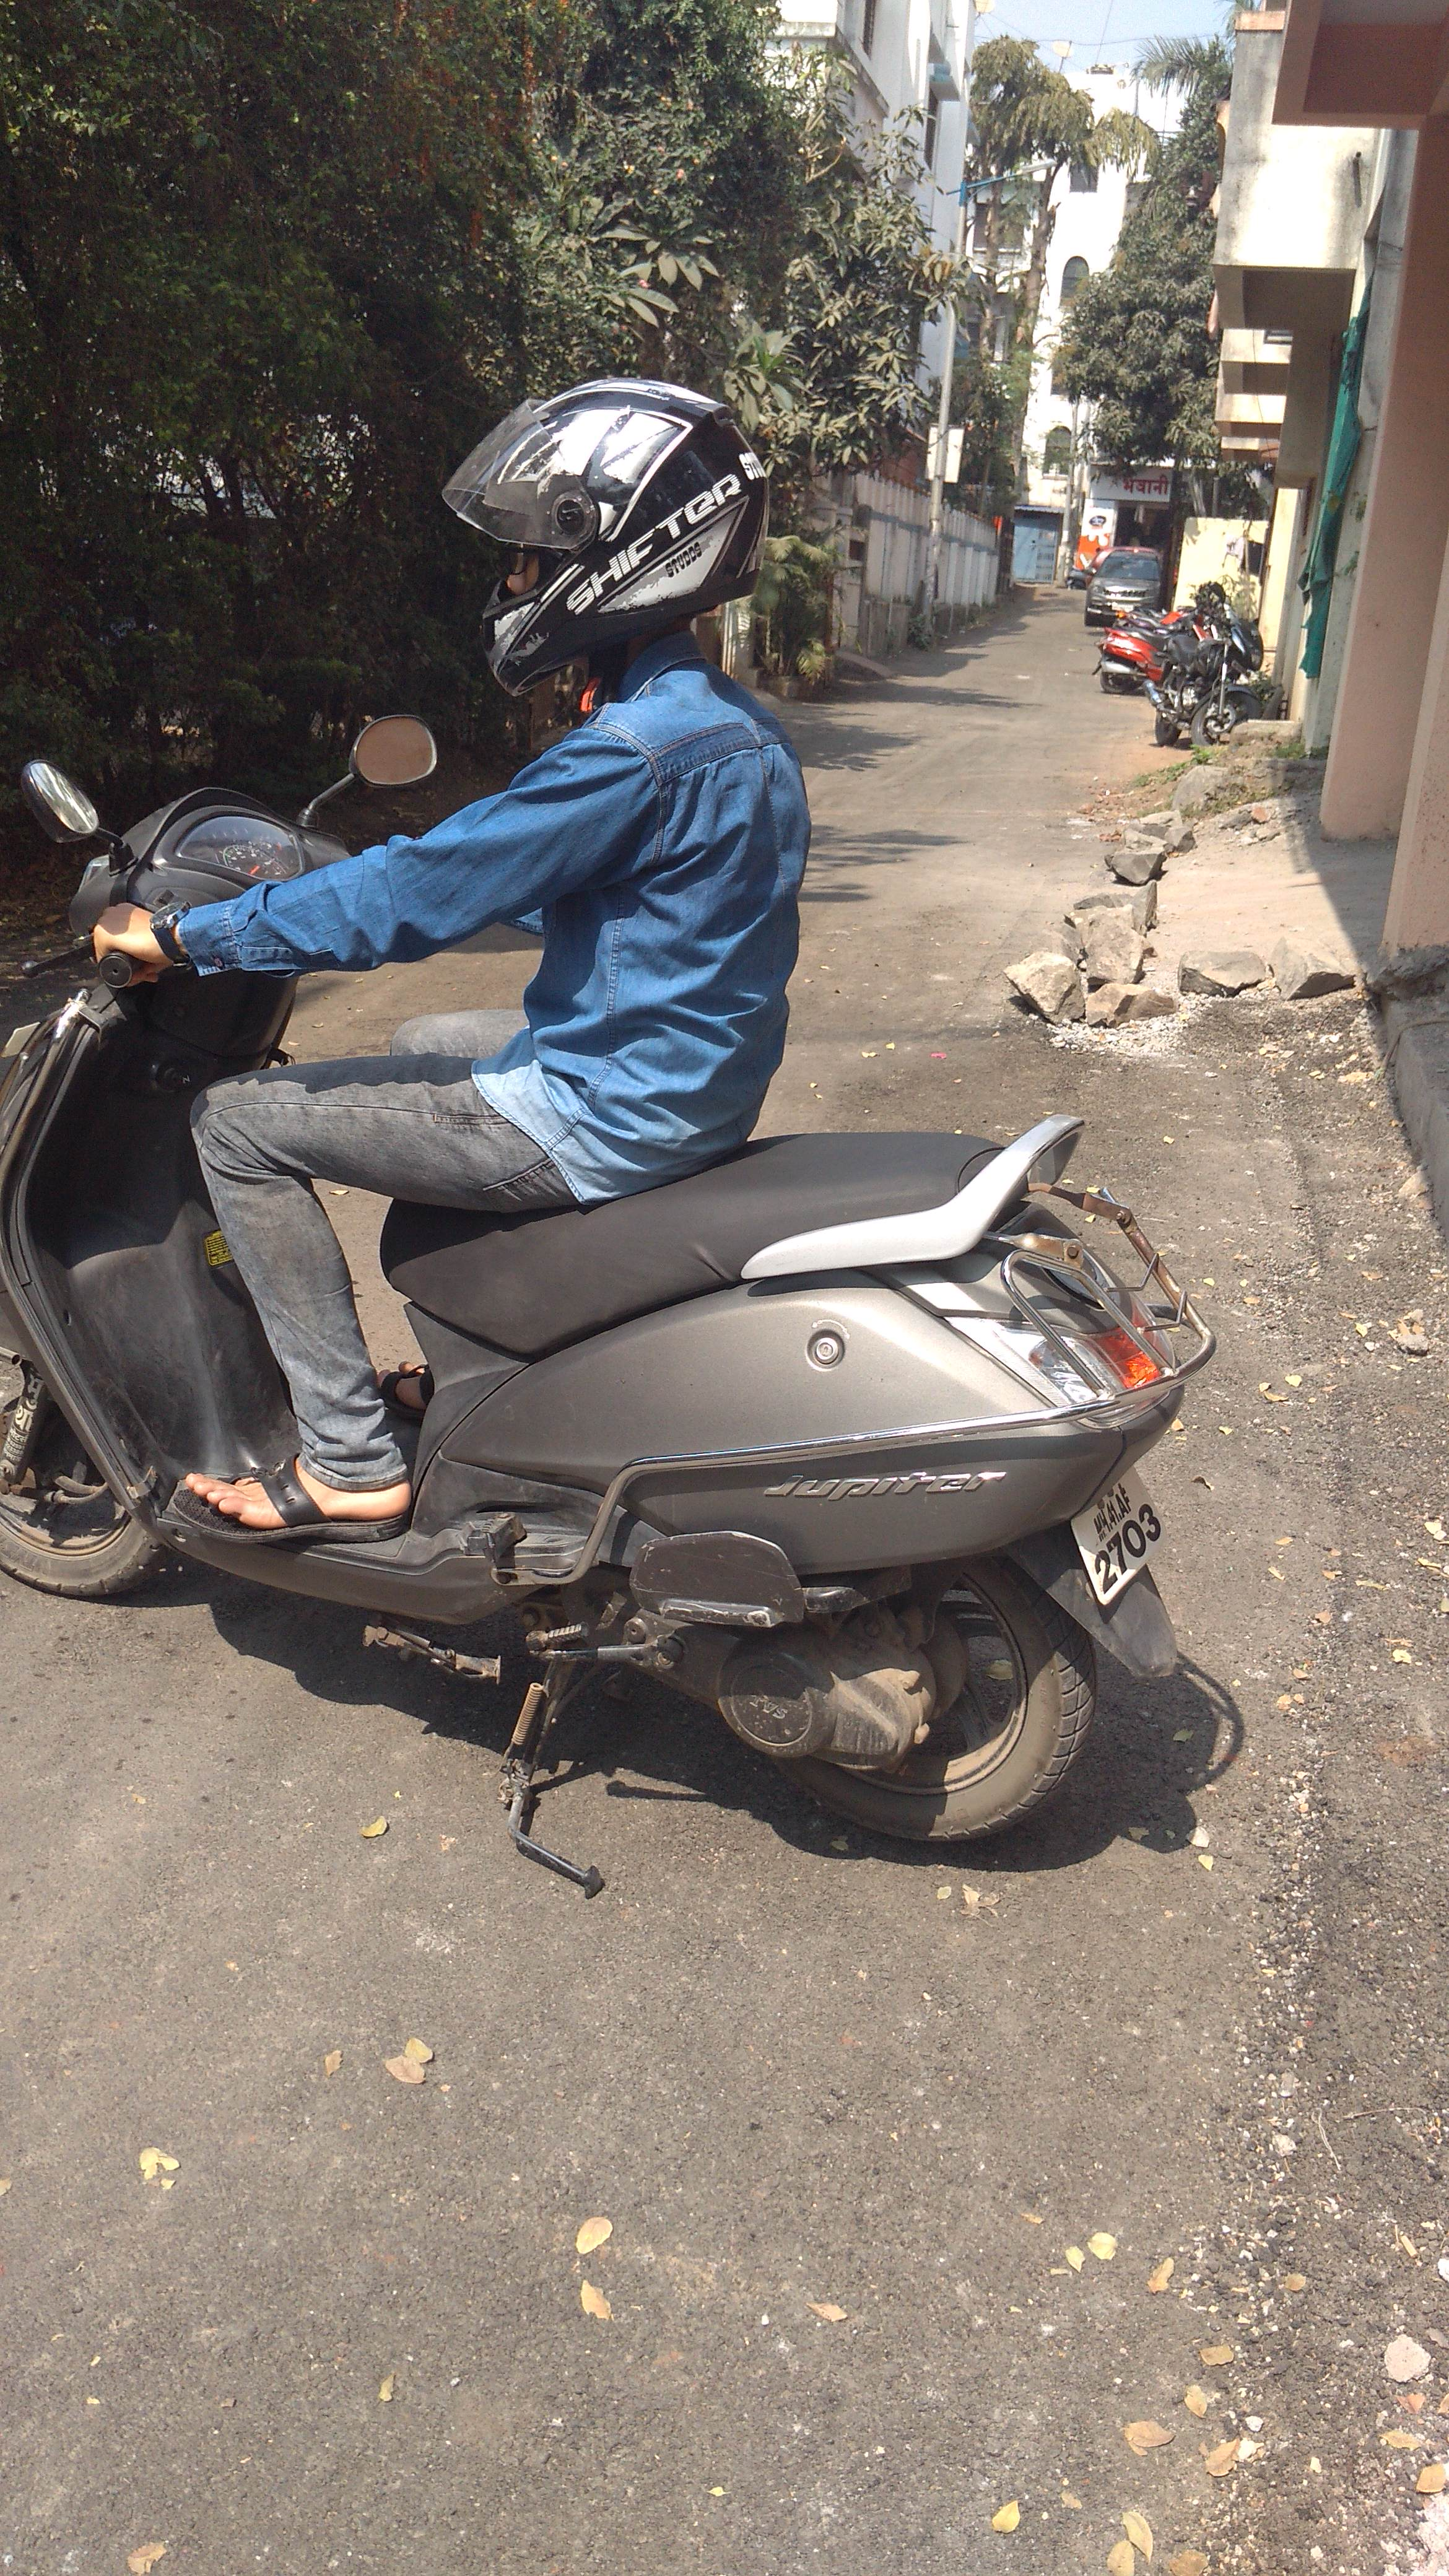helmet: (295, 356, 902, 1415)
